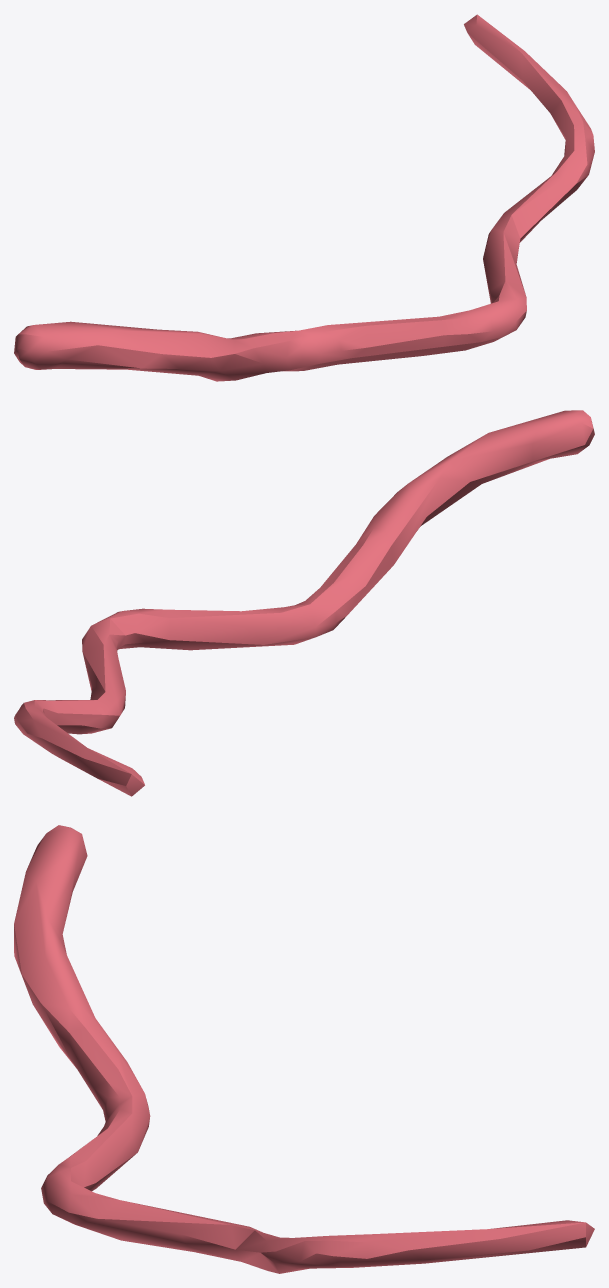
The model's file is fma4713_fj2680.glb.
3 renders of one model, top to bottom at view 1: azimuth 30°, elevation 25°; view 2: azimuth 210°, elevation 25°; view 3: azimuth 270°, elevation 25°, orthographic. The views are drawn at different scales.
Visible parts, largest first — view 1: FMA4713_FJ2680; view 2: FMA4713_FJ2680; view 3: FMA4713_FJ2680.
Boxes of the visible parts, bbox=[...] form: FMA4713_FJ2680: bbox=[14, 14, 594, 381]; FMA4713_FJ2680: bbox=[14, 410, 594, 796]; FMA4713_FJ2680: bbox=[14, 825, 594, 1273].
Size of the model in its own units: 0.0148 by 0.00271 by 0.00947.
